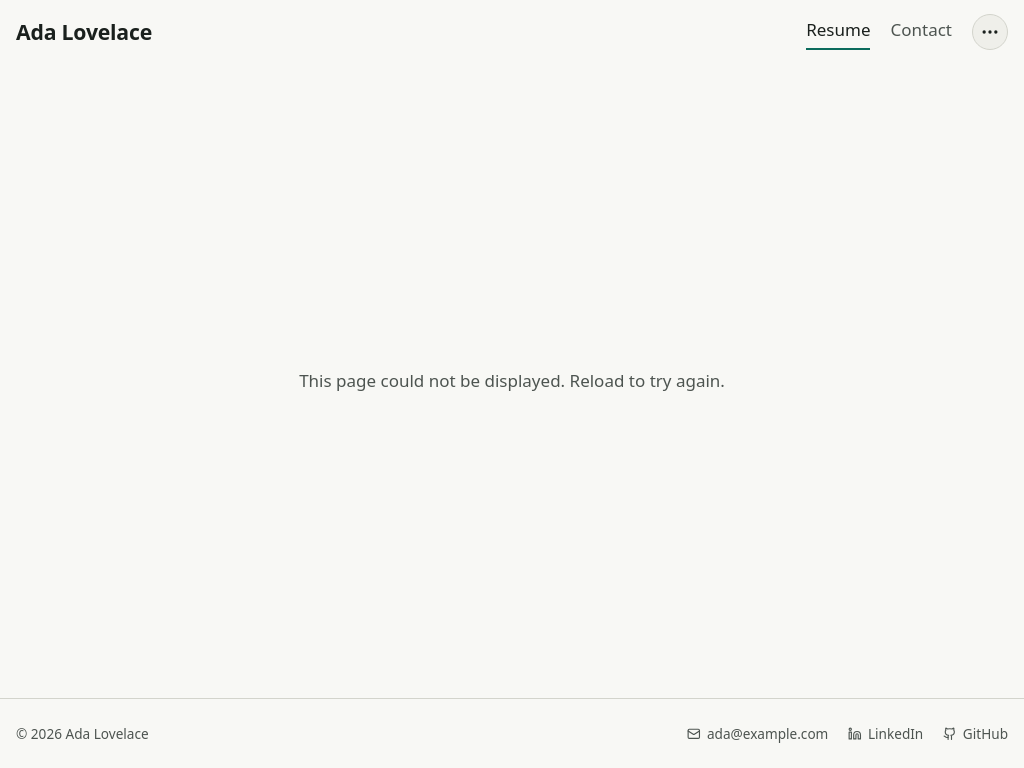
it: AppRoutes › when a page fails to render › shows the next page once the user navigates away
This screenshot has width=1024, height=768.
Expected: the message "This page could not be displayed. Reload to try again." is shown, top-left (299, 368), bottom-right (725, 394)
Click the link "Ada Lovelace": [84, 32] box top-left (16, 19), bottom-right (152, 44)
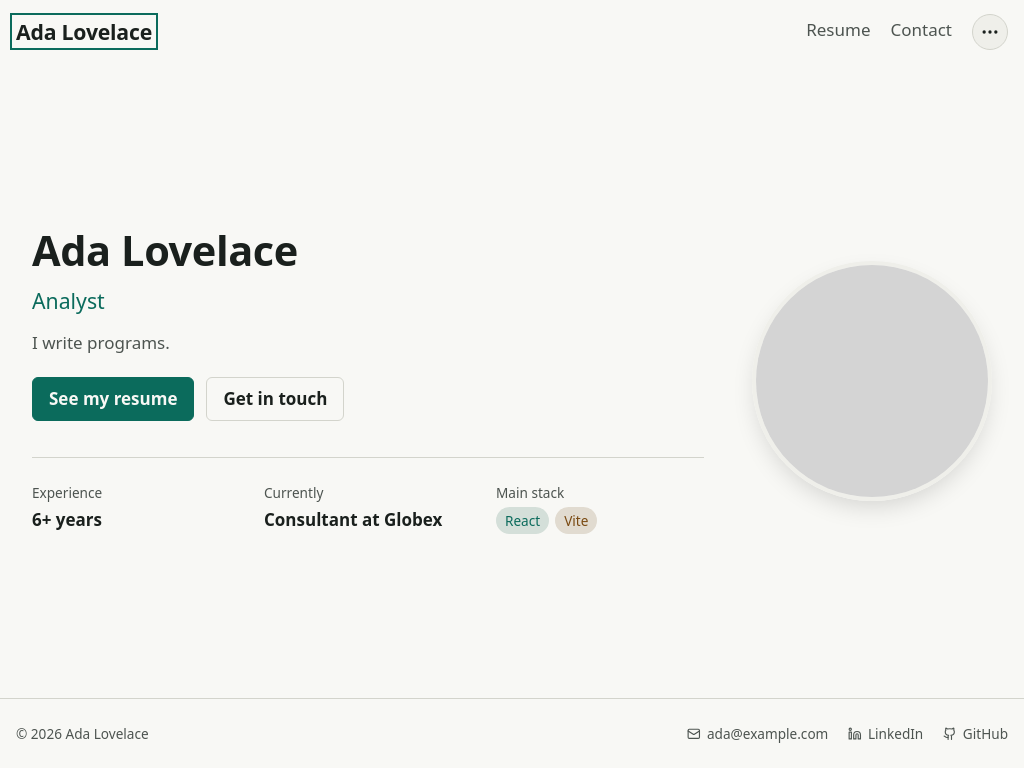
Expected: the heading "Ada Lovelace" is shown, top-left (32, 228), bottom-right (298, 273)
